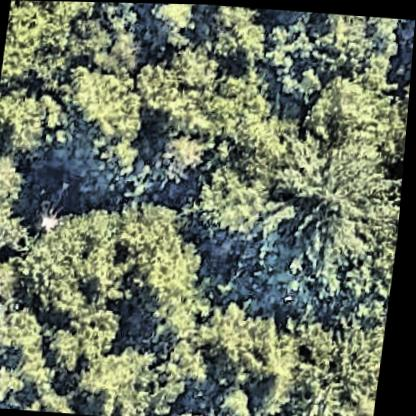tree-top: (19, 193, 219, 334), (258, 128, 408, 292), (170, 297, 306, 416), (257, 9, 407, 112), (286, 311, 389, 416), (0, 0, 120, 90), (56, 67, 151, 170), (135, 38, 228, 137), (298, 73, 412, 151), (71, 339, 186, 416), (183, 170, 274, 248), (0, 307, 69, 407), (0, 91, 77, 166), (197, 4, 278, 69), (57, 301, 136, 367), (214, 118, 293, 177), (156, 133, 215, 195), (137, 2, 202, 52), (0, 150, 42, 216), (0, 206, 37, 264), (0, 257, 27, 328)
